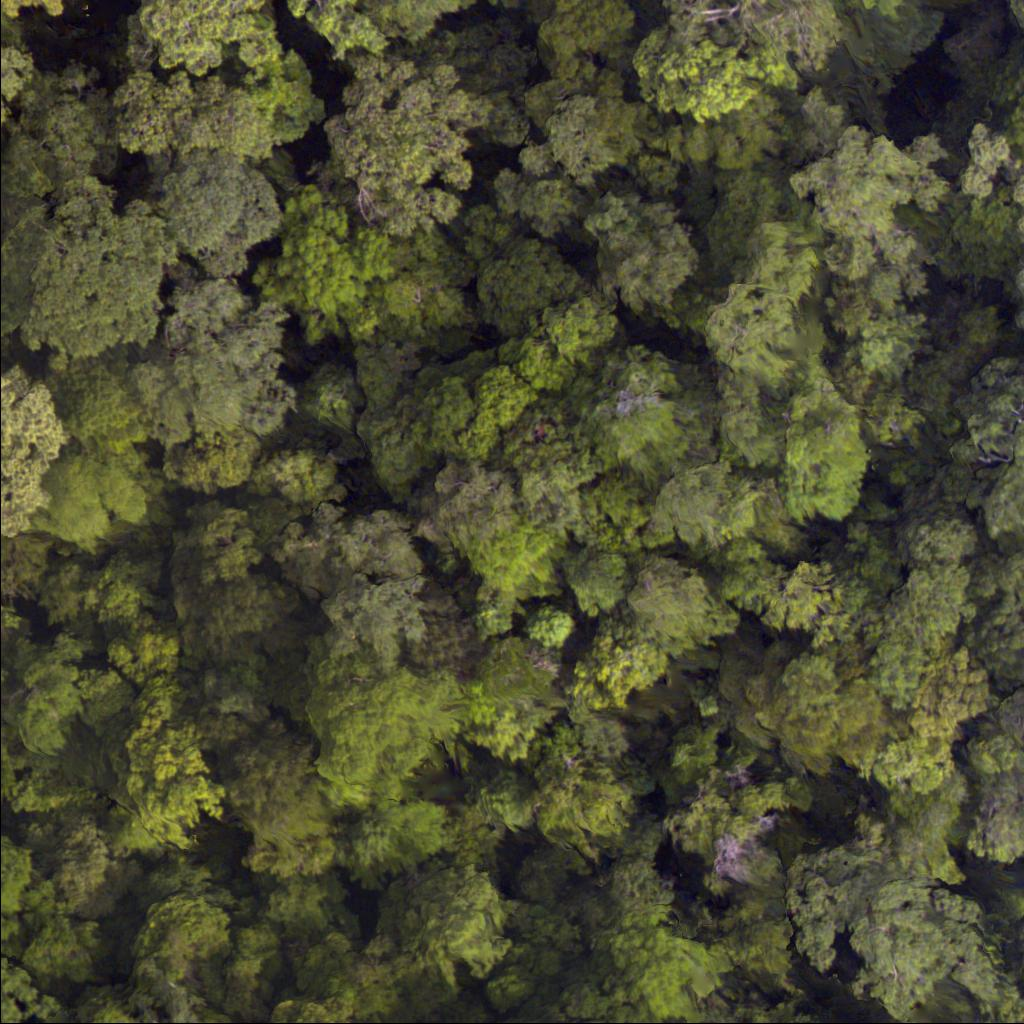crown: (0, 173, 172, 372), (127, 279, 271, 444), (180, 496, 309, 680), (99, 715, 226, 860), (159, 155, 306, 279), (3, 64, 117, 193), (25, 807, 141, 921), (0, 355, 67, 533), (47, 455, 153, 560), (0, 952, 62, 1023), (0, 52, 31, 138), (0, 0, 95, 24), (0, 585, 14, 655)
